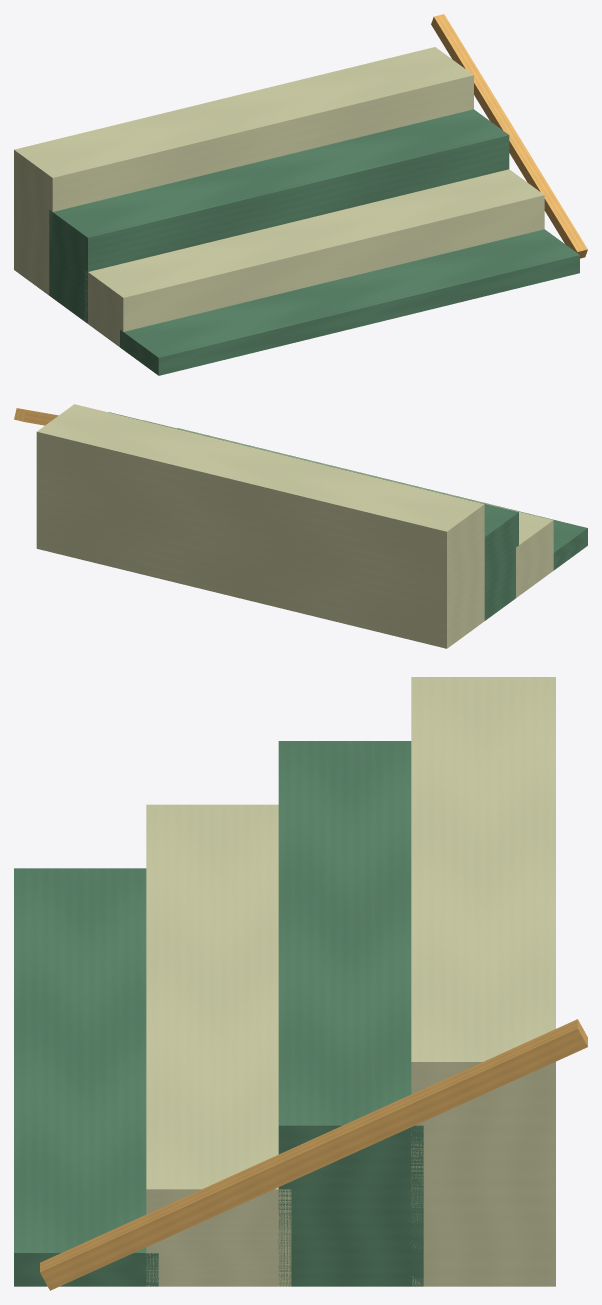
Rendered from atlas100-s001-a10.lod1.glb.
The picture shows the model from 3 angles, top to bottom: view 1: azimuth 30°, elevation 25°; view 2: azimuth 150°, elevation 25°; view 3: azimuth 270°, elevation 25°; orthographic projection. The views are drawn at different scales.
Parts seen in each view (by area): view 1: atlas100-s001-a10:part-003, atlas100-s001-a10:part-002, atlas100-s001-a10:part-001, atlas100-s001-a10:part-000, atlas100-s001-a10:part-005; view 2: atlas100-s001-a10:part-003, atlas100-s001-a10:part-002, atlas100-s001-a10:part-001, atlas100-s001-a10:part-000, atlas100-s001-a10:part-005; view 3: atlas100-s001-a10:part-003, atlas100-s001-a10:part-002, atlas100-s001-a10:part-001, atlas100-s001-a10:part-000, atlas100-s001-a10:part-005.
Boxes of the visible parts, box(x1,y1,x2,y2) form: atlas100-s001-a10:part-003: box(14, 47, 473, 295); atlas100-s001-a10:part-002: box(49, 109, 509, 323); atlas100-s001-a10:part-001: box(84, 169, 544, 346); atlas100-s001-a10:part-000: box(120, 229, 579, 375); atlas100-s001-a10:part-005: box(431, 14, 587, 258); atlas100-s001-a10:part-003: box(36, 404, 484, 648); atlas100-s001-a10:part-002: box(108, 412, 518, 620); atlas100-s001-a10:part-001: box(143, 420, 553, 597); atlas100-s001-a10:part-000: box(178, 428, 587, 570); atlas100-s001-a10:part-005: box(14, 408, 58, 425); atlas100-s001-a10:part-003: box(411, 677, 555, 1286); atlas100-s001-a10:part-002: box(278, 741, 423, 1286); atlas100-s001-a10:part-001: box(146, 804, 291, 1286); atlas100-s001-a10:part-000: box(14, 868, 158, 1286); atlas100-s001-a10:part-005: box(40, 1019, 587, 1290).
Bounding box in the file's own units: 2.28 × 0.7246 × 1.39.
Materials: 3 (3 with a texture image).
